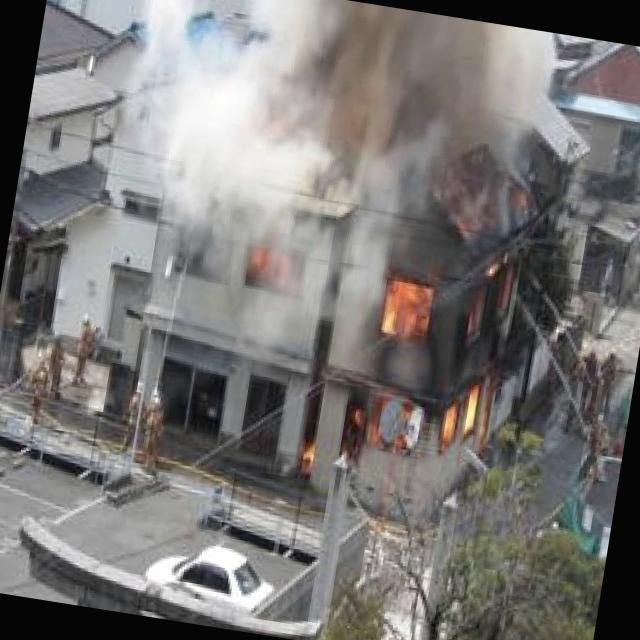Fire: (293, 177, 561, 516)
